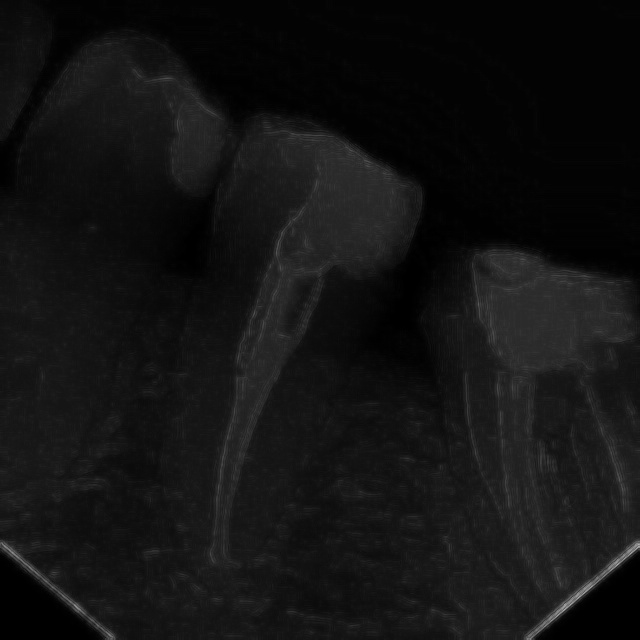Class 0- No endodontic treatment: (127, 167, 429, 619)
